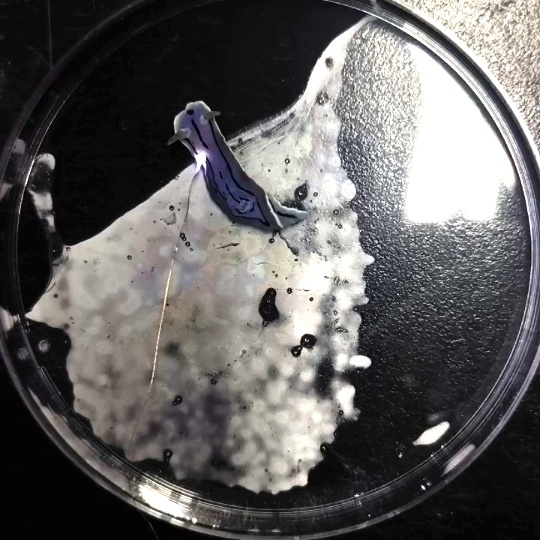sea-slug: (78, 111, 269, 225)
